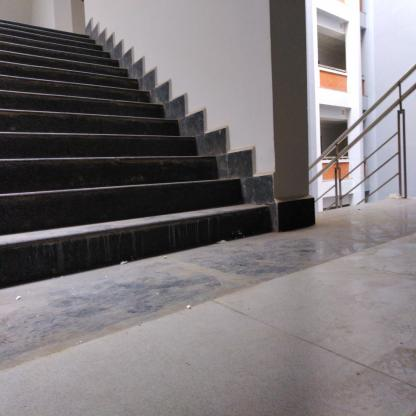stairs: (4, 34, 89, 295)
